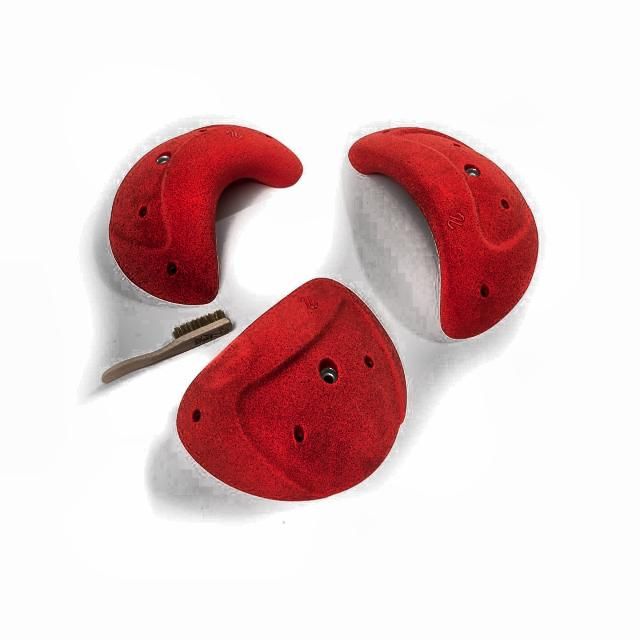Hold: (157, 265, 419, 516), (333, 117, 550, 350), (92, 111, 309, 325)
